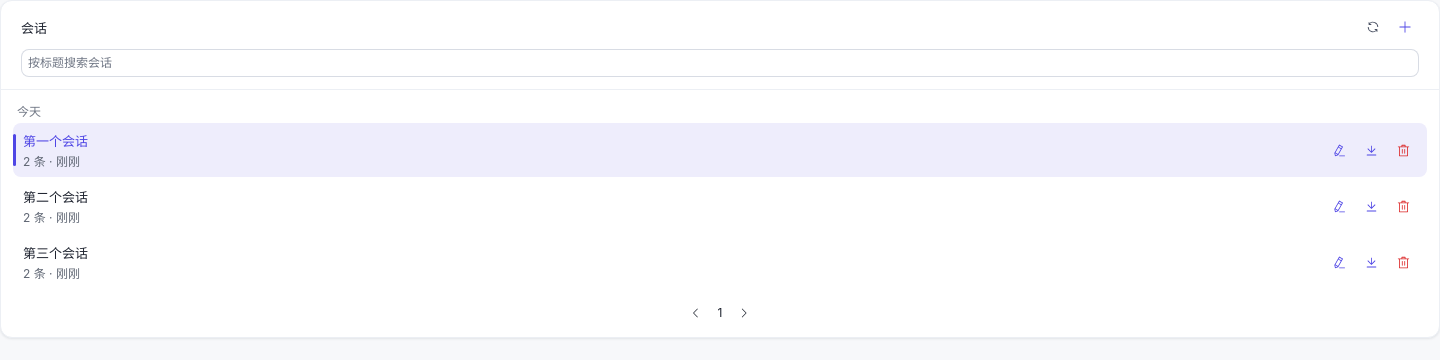
Test: 重命名：保存与取消的边界 › 点删除会先收起编辑态（两行不能同时展开）
This screenshot has width=1440, height=360.
Click the button named "重命名会话：第一个会话" at x=1339, y=150, box [1325,136,1353,164]
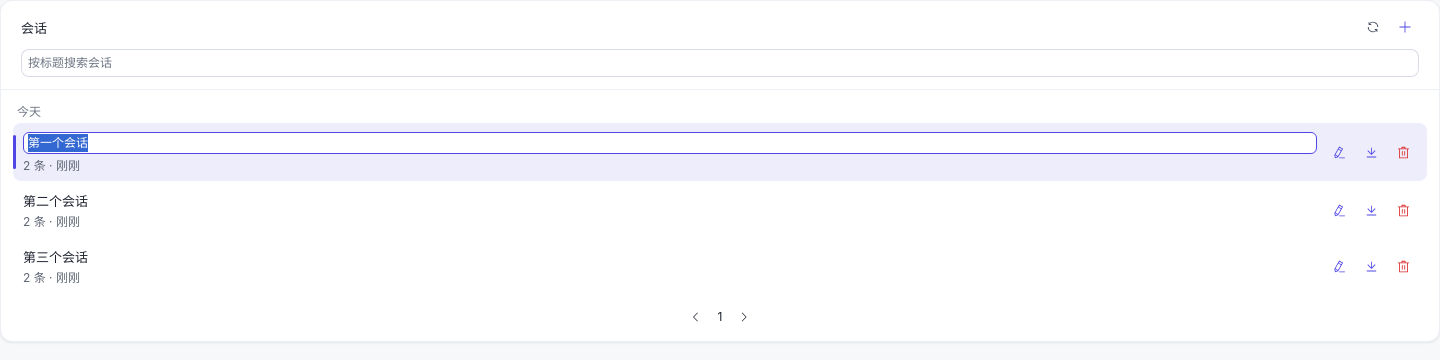
Click the button named "删除会话：第一个会话" at x=1403, y=152, box [1389,138,1417,166]
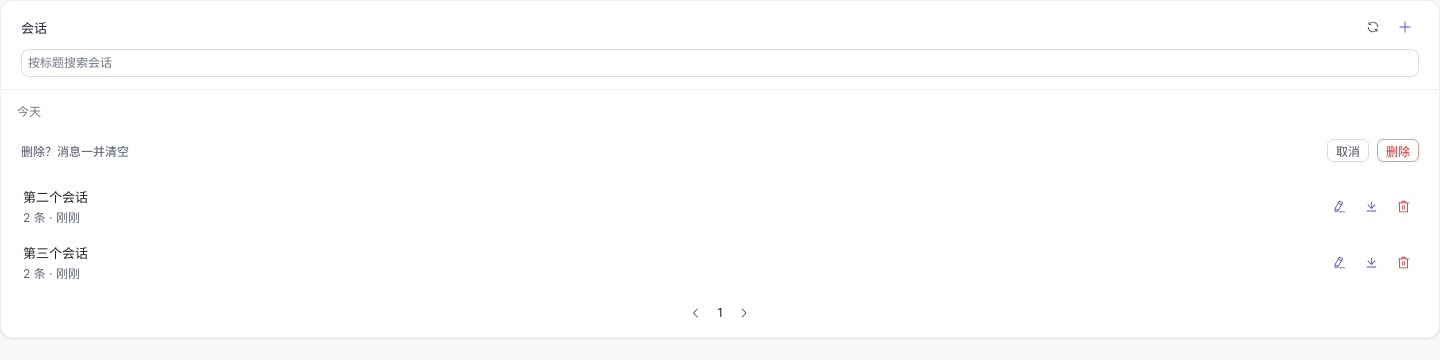
Expected: no fields with class "chat-sessions__rename" are shown
Expected: the number of elements with class "chat-sessions__confirm" is 1, [13,123,1427,177]
